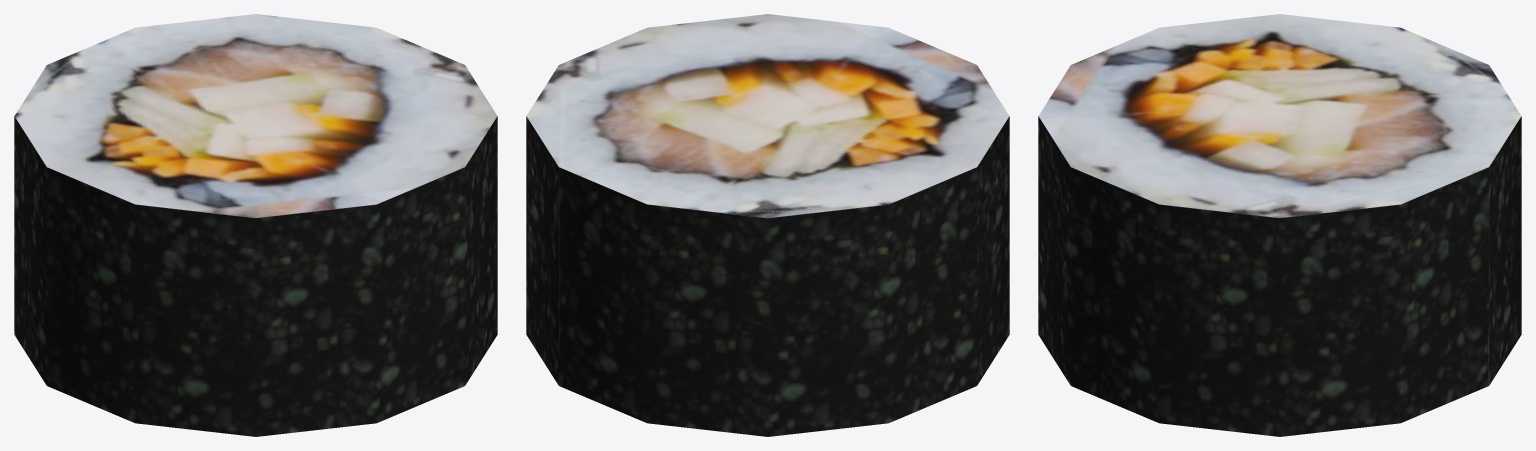
The model's file is SM_Maki_04.FBX.
The picture shows the model from 3 angles, left to right: view 1: azimuth 30°, elevation 25°; view 2: azimuth 150°, elevation 25°; view 3: azimuth 270°, elevation 25°; orthographic projection.
Visible parts, largest first — view 1: Maki_04; view 2: Maki_04; view 3: Maki_04.
Boxes of the visible parts, left/top/right/bottom form: Maki_04: left=14, top=14, right=497, bottom=436; Maki_04: left=526, top=14, right=1009, bottom=436; Maki_04: left=1038, top=14, right=1521, bottom=436.
Bounding box in the file's own units: 5 × 2.5 × 5.
